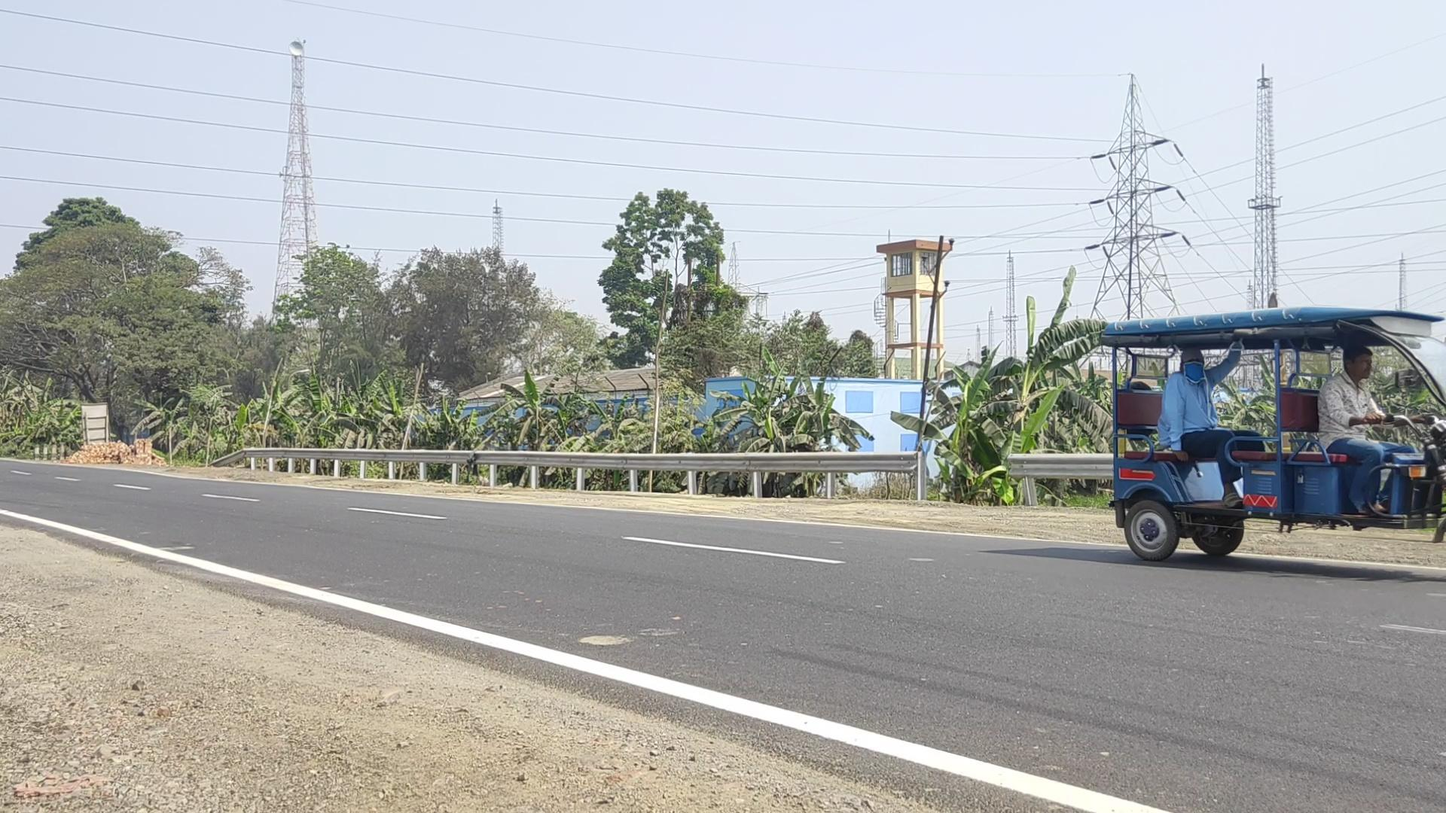Auto: (1101, 307, 1446, 577)
